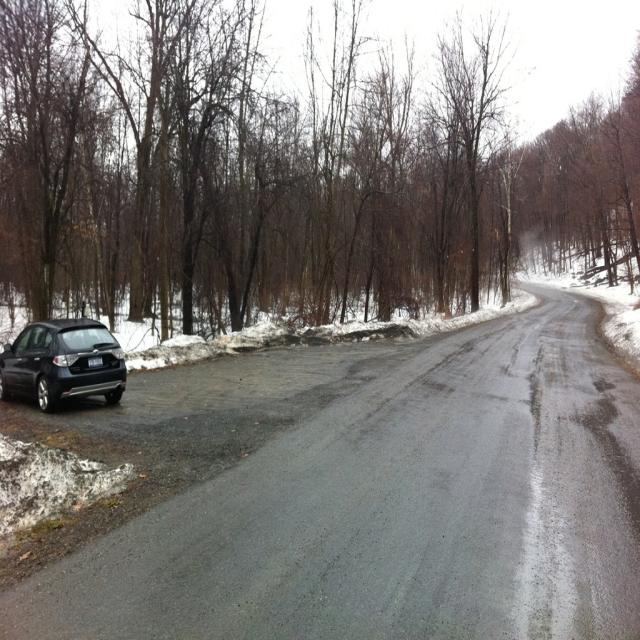other: (0, 310, 126, 415)
